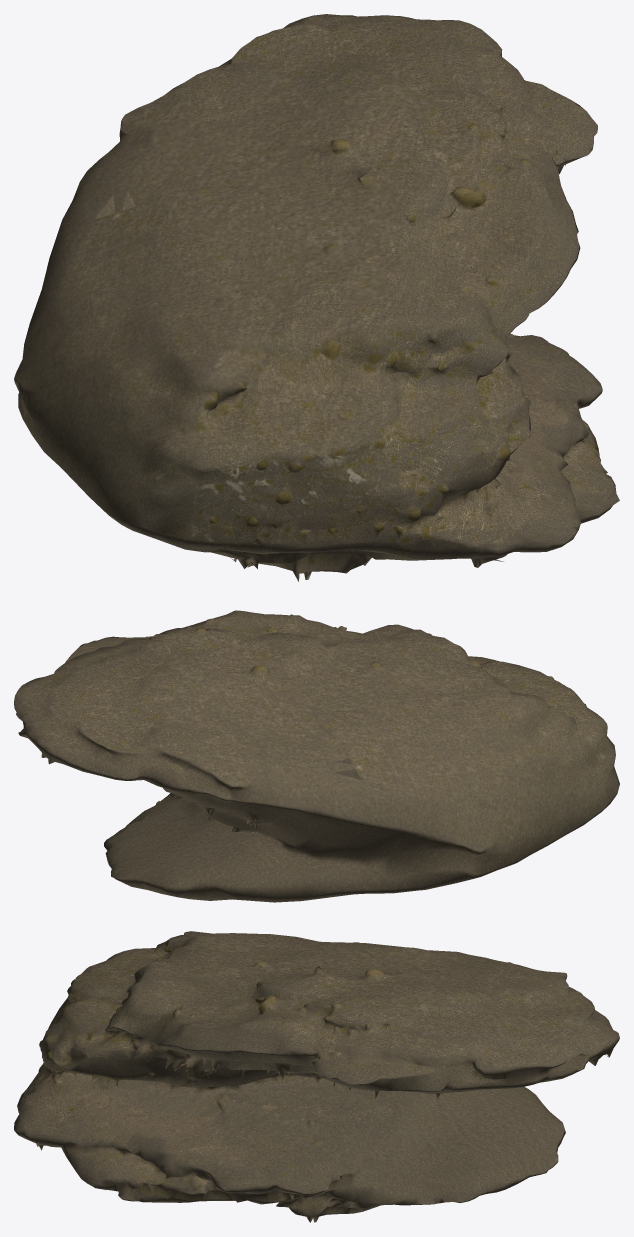
The model's file is nat-rock-c.glb.
3 renders of one model, top to bottom at view 1: azimuth 30°, elevation 25°; view 2: azimuth 150°, elevation 25°; view 3: azimuth 270°, elevation 25°, orthographic. The views are drawn at different scales.
Bounding box in the file's own units: 0.8091 × 0.3638 × 0.9526.
Materials: 1 (1 with a texture image).
